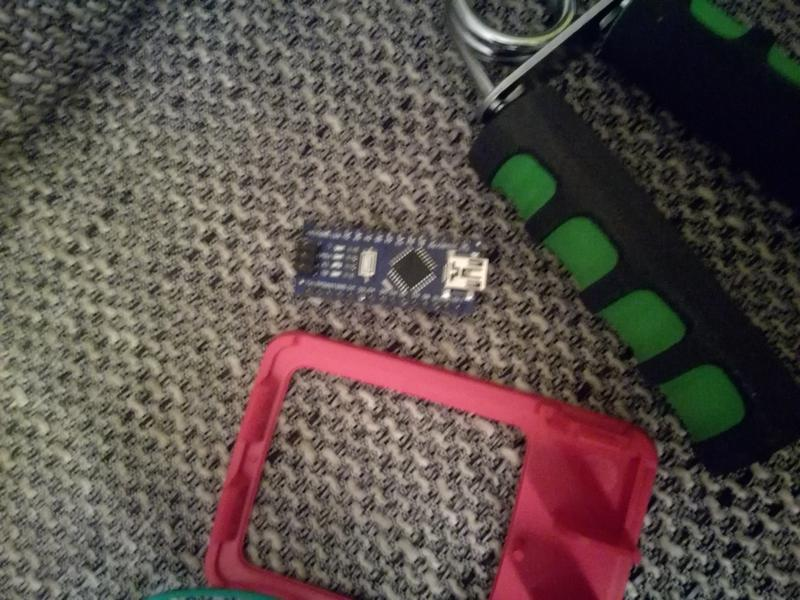Arduino_Nano: (288, 221, 495, 317)
